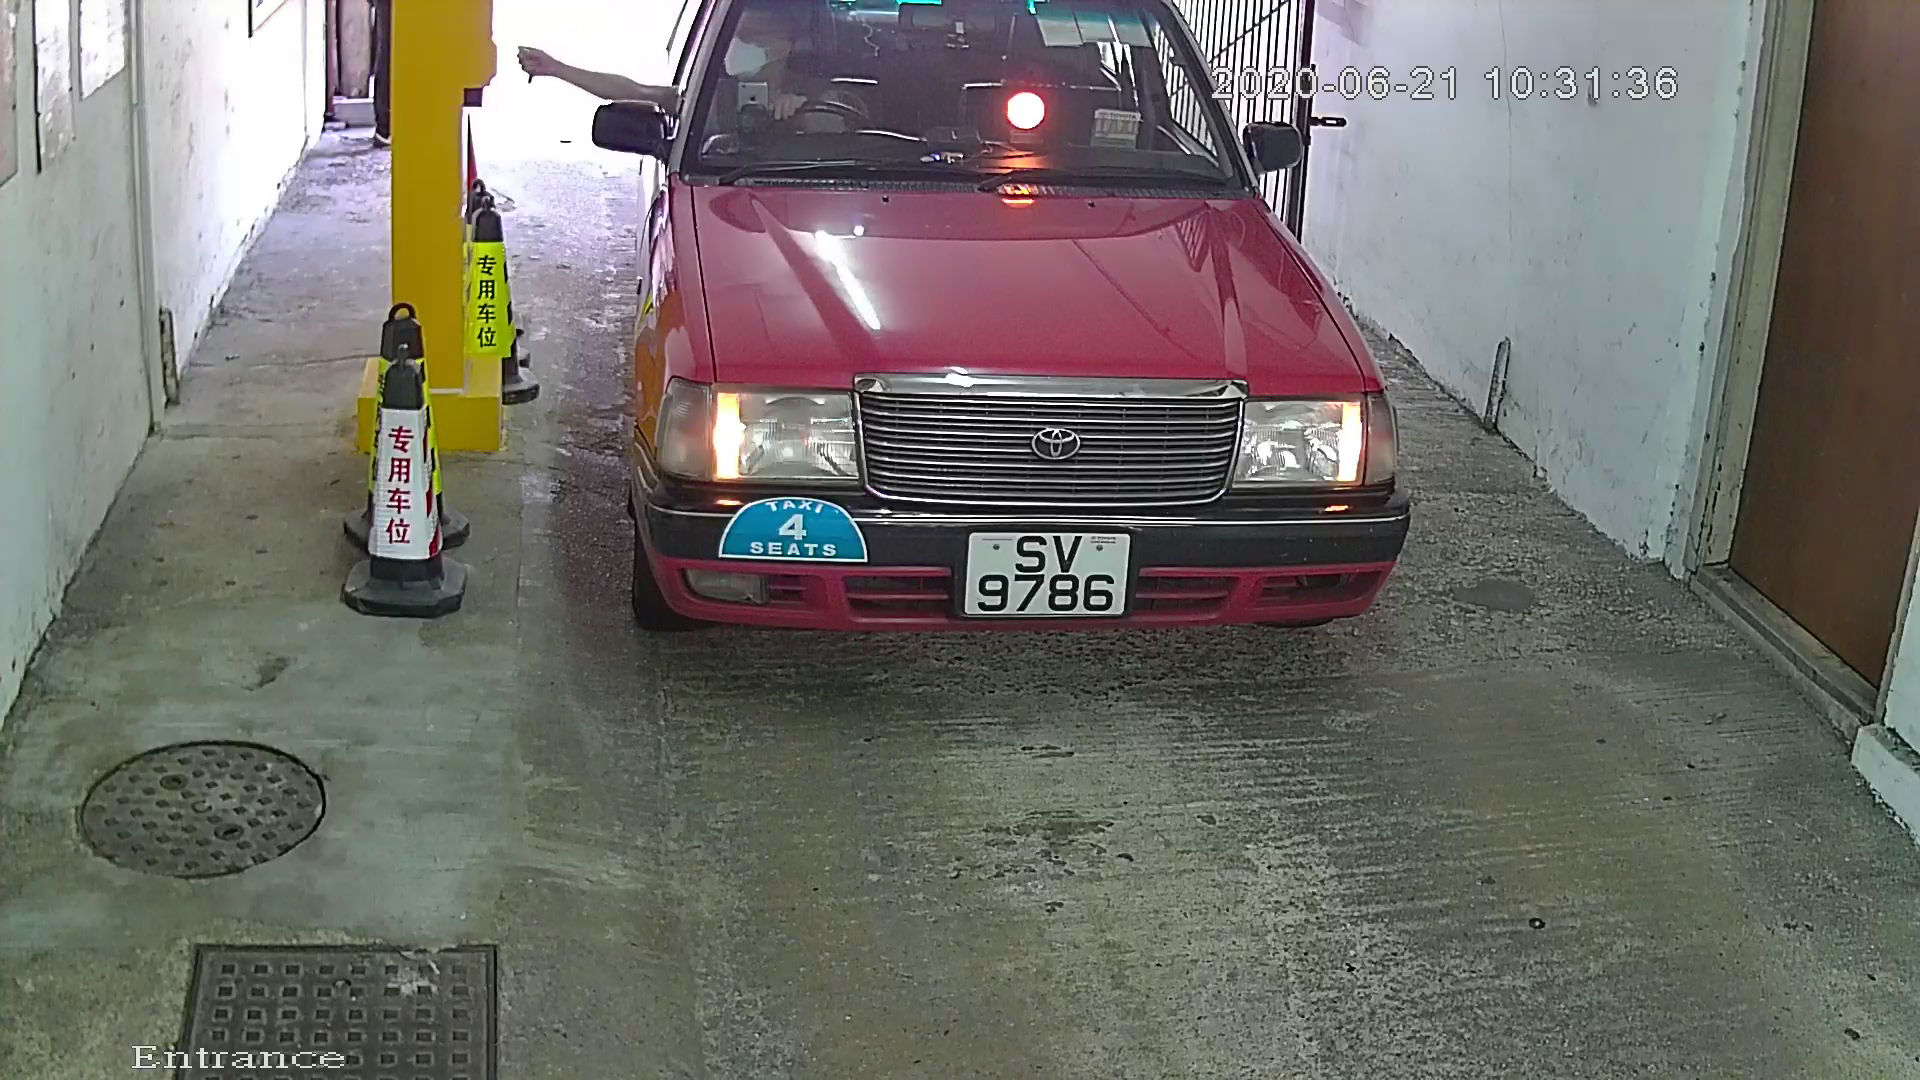taxi: (554, 1, 1487, 724)
taxi_mark: (707, 464, 890, 603)
